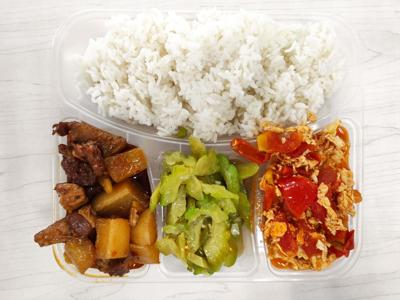jdxhs: (239, 126, 378, 275)
jrtd: (53, 116, 162, 282)
rice: (83, 12, 340, 126)
